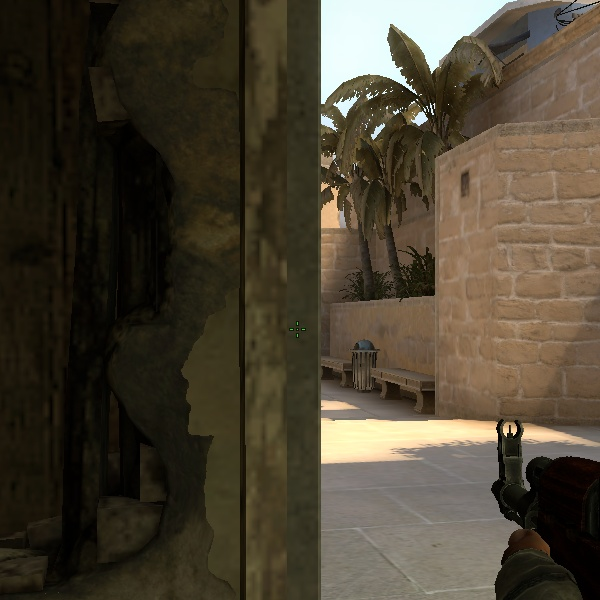t_body: (317, 145, 353, 220)
